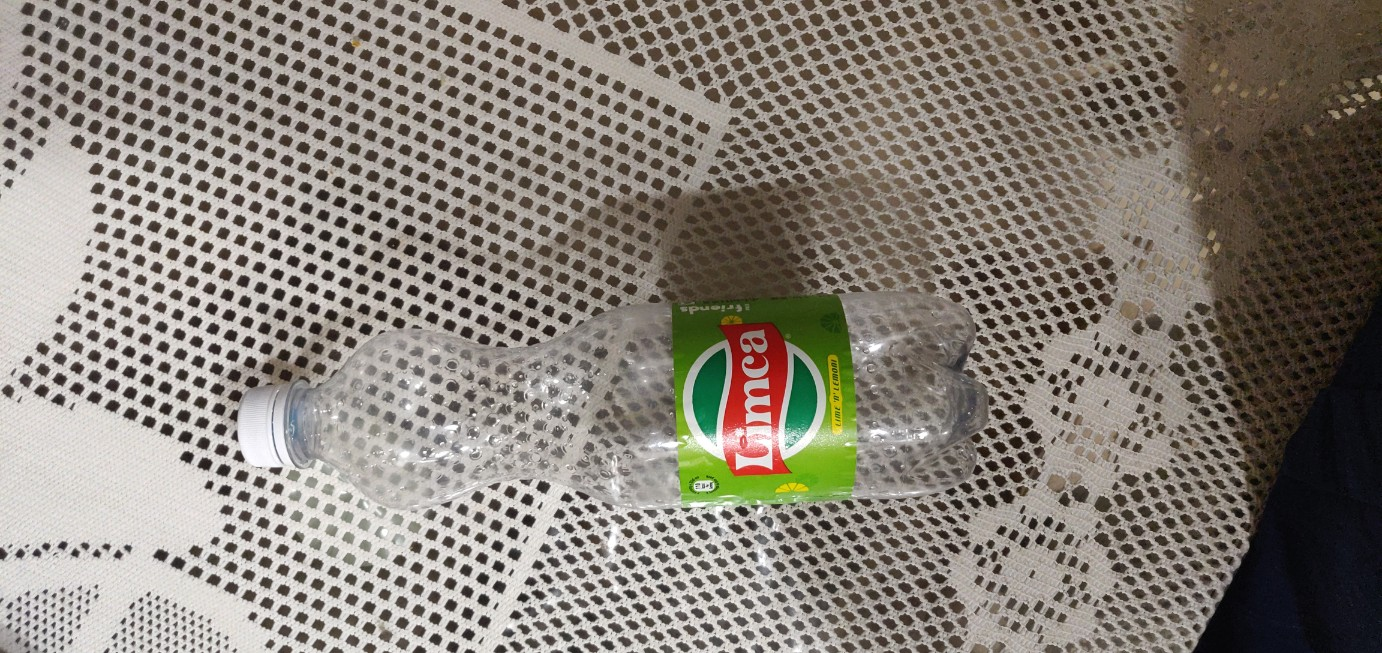Electronics: (209, 281, 1012, 522)
